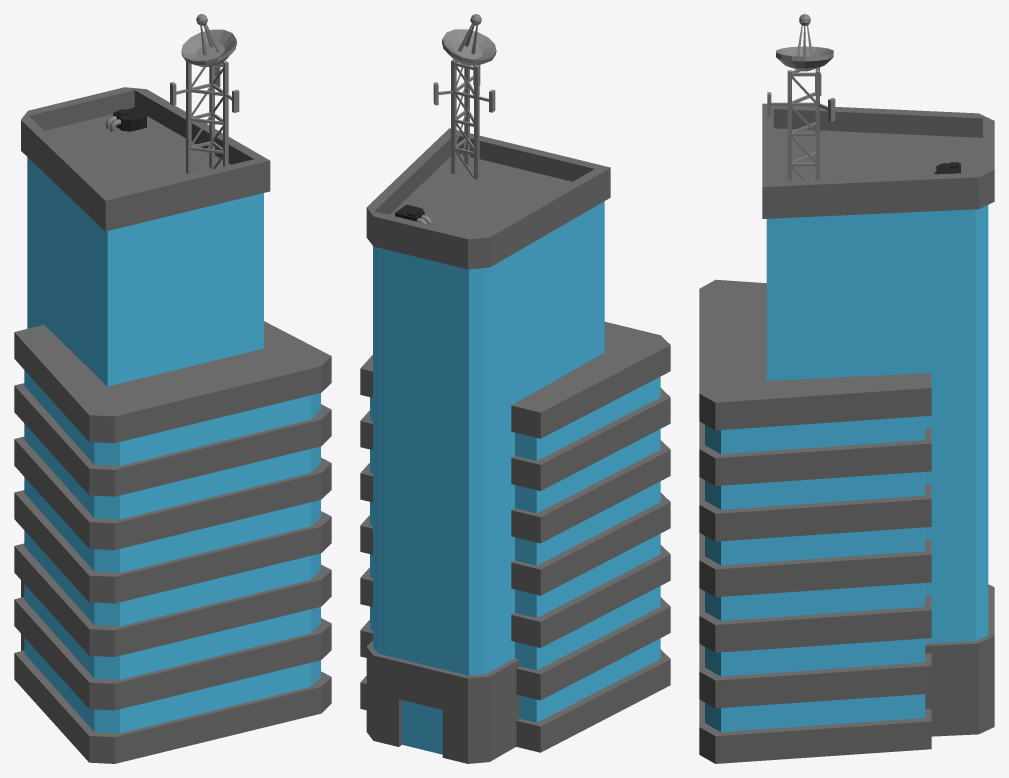
File: Skyscraper_01.fbx
3 views of the same model, side by side, from view 1: azimuth 30°, elevation 25°; view 2: azimuth 150°, elevation 25°; view 3: azimuth 270°, elevation 25° (orthographic). The views are drawn at different scales.
Parts seen in each view (by area): view 1: Skyscraper_01; view 2: Skyscraper_01; view 3: Skyscraper_01.
Boxes of the visible parts, x1,y1,x2,y2 form: Skyscraper_01: (14, 14, 331, 763); Skyscraper_01: (360, 14, 670, 763); Skyscraper_01: (699, 14, 994, 763).
Bounding box in the file's own units: 32.53 × 86.99 × 32.99.
